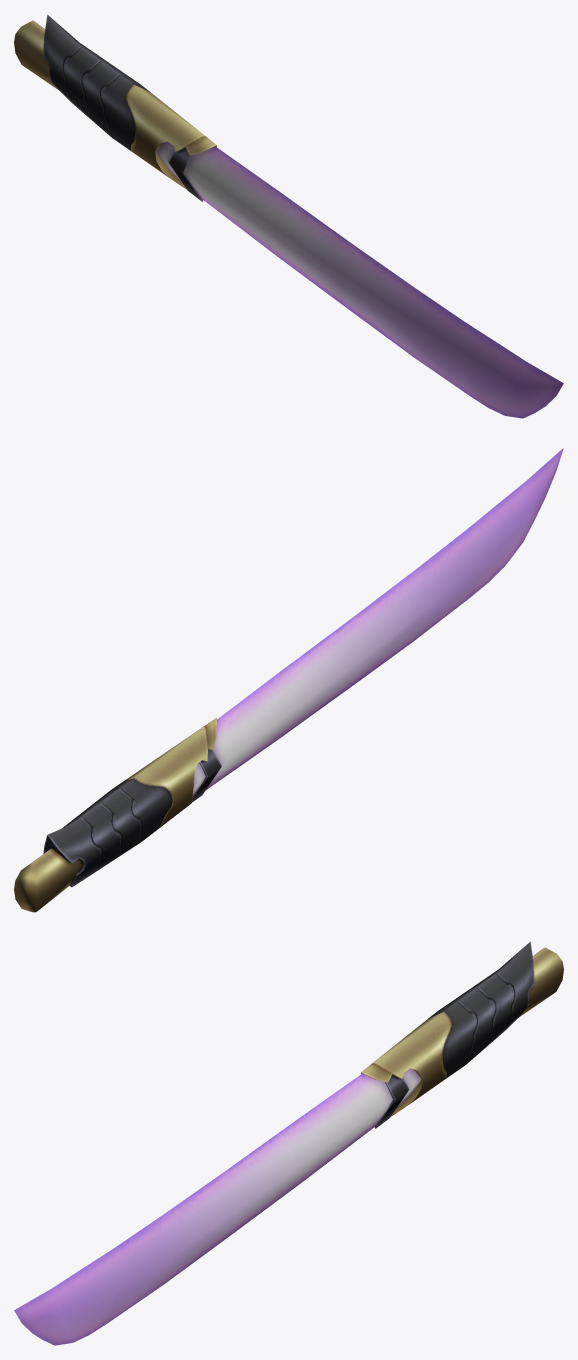
The picture shows the model from 3 angles, top to bottom: view 1: azimuth 30°, elevation 25°; view 2: azimuth 150°, elevation 25°; view 3: azimuth 330°, elevation 25°; orthographic projection.
Parts seen in each view (by area): view 1: mBlade, mGrip; view 2: mBlade, mGrip; view 3: mBlade, mGrip.
Part boxes in pixels (bbox=[...]): mBlade: bbox=[156, 141, 563, 418]; mGrip: bbox=[14, 14, 216, 201]; mBlade: bbox=[192, 448, 563, 795]; mGrip: bbox=[14, 717, 221, 912]; mBlade: bbox=[14, 1068, 421, 1345]; mGrip: bbox=[361, 941, 563, 1128].
Size of the model in its own units: 0.0397 by 0.0817 by 0.9491.
Materials: 1 (1 with a texture image).
